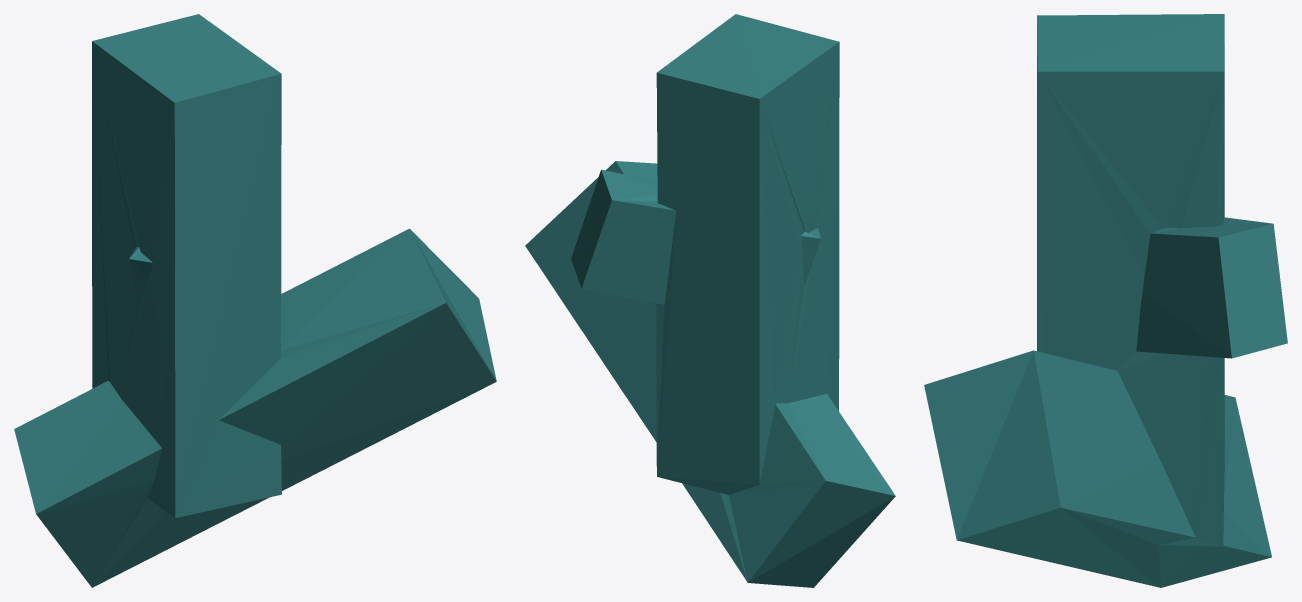
The picture shows the model from 3 angles, left to right: view 1: azimuth 30°, elevation 25°; view 2: azimuth 150°, elevation 25°; view 3: azimuth 270°, elevation 25°; orthographic projection. The views are drawn at different scales.
Parts seen in each view (by area): view 1: 620_Cube.2494; view 2: 620_Cube.2494; view 3: 620_Cube.2494.
Part boxes in pixels (<box>): 620_Cube.2494: <box>14,14,496,587</box>; 620_Cube.2494: <box>525,14,895,587</box>; 620_Cube.2494: <box>924,14,1287,587</box>.
Bounding box in the file's own units: 12.44 × 14.99 × 8.36.
